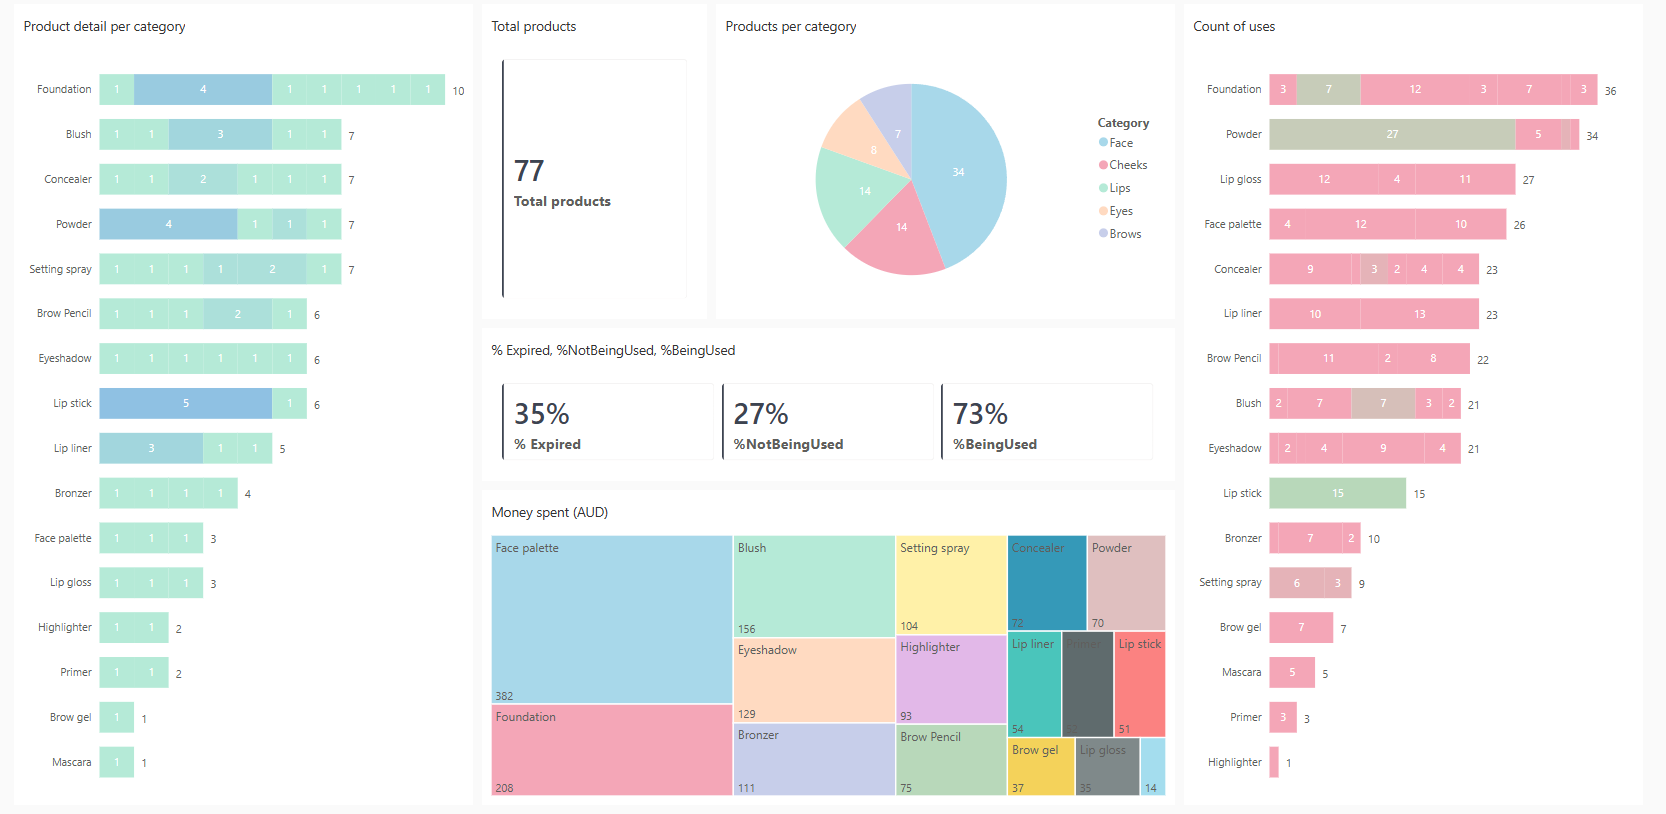

This screenshot's page, from the dashboard's own definition file:
{"tool":"powerbi","page":{"name":"Inventory","canvas":[1280,720],"ordinal":0},"visuals":[{"type":"pieChart","title":"Products per category","fields":{"Category":["Products.Category"],"Y":["CountNonNull(Products.ProductID)"]},"box":[270.5,29.3,294.6,235.5],"z":0},{"type":"barChart","title":"Product detail per category","fields":{"Category":["Products.ProductType"],"Series":["Products.ProductName"],"Y":["CountNonNull(Products.ProductID)"]},"box":[13.6,289.2,384.1,413.5],"z":1000},{"type":"barChart","title":"Count of uses","fields":{"Category":["Products.ProductType"],"Series":["Products.ProductName"],"Y":["Sum(Usage log.UsesSeptember)"]},"box":[405.6,289.2,379.6,420.3],"z":2000},{"type":"slicer","fields":{"Values":["Usage log.Category"]},"box":[585.5,29.3,146.4,228.1],"z":3000},{"type":"cardVisual","fields":{"Data":["CountNonNull(Products.ProductID)"]},"box":[12.1,125.2,212.8,139.2],"z":4000},{"type":"pivotTable","fields":{"Rows":["Products.Brand","Products.ProductName","Products.Shade"],"Values":["Products.TimeFromOpening","Sum(Products.ExpiryMonthsAfterOpening)","Products.%BeforeExpiring"]},"box":[785.4,29.3,446.2,674.3],"z":5000},{"type":"cardVisual","fields":{"Data":["Products.CurrentDate"]},"box":[13.1,29.3,212.4,59.9],"z":6000}]}

Visuals, with their boxes on the page's 1280x720 design canvas (x1, y1, x2, y2). These are canvas units, not pixel positions in the 1666x814 screenshot, which may show the page scaled, cropped or inside an application window:
"Products per category" pieChart: (270,29,565,265)
"Product detail per category" barChart: (14,289,398,703)
"Count of uses" barChart: (406,289,785,710)
slicer - Usage log.Category: (586,29,732,257)
cardVisual - CountNonNull(Products.ProductID): (12,125,225,264)
pivotTable - Products.Brand x Products.ProductName: (785,29,1232,704)
cardVisual - Products.CurrentDate: (13,29,226,89)
